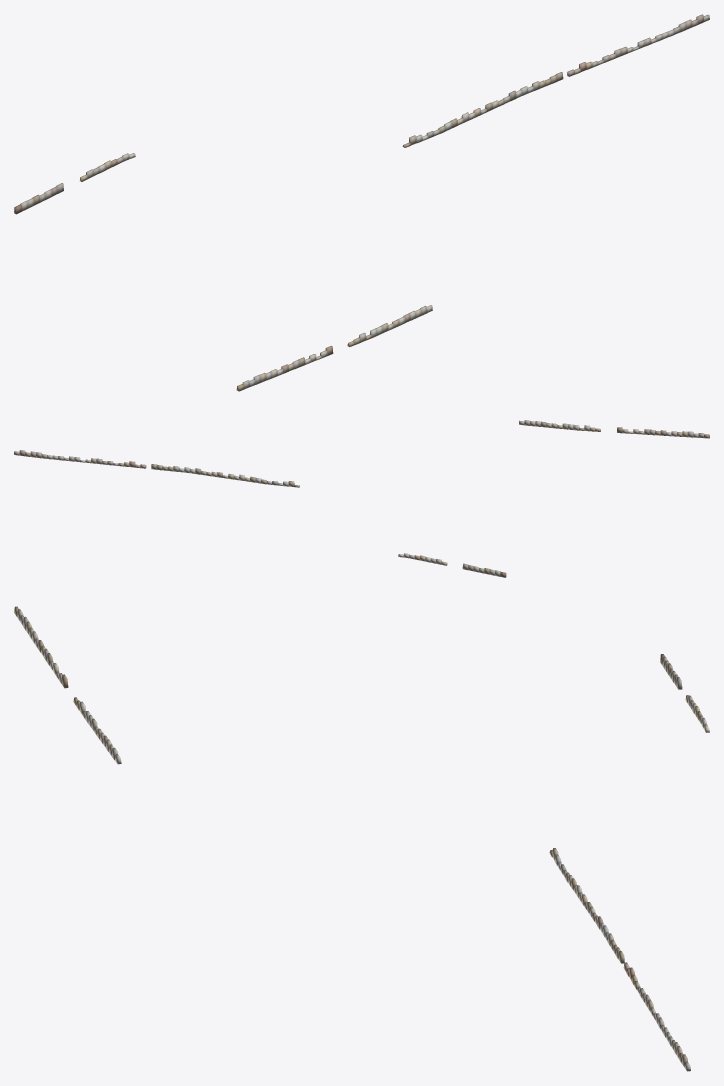
The model's file is farm_29_18_collision.glb.
3 views of the same model, one above another, from view 1: azimuth 30°, elevation 25°; view 2: azimuth 150°, elevation 25°; view 3: azimuth 270°, elevation 25° (orthographic). The views are drawn at different scales.
Parts seen in each view (by area): view 1: geometry_0; view 2: geometry_0; view 3: geometry_0.
Part boxes in pixels (box(x1,y1,x2,y2)): geometry_0: box(14, 14, 709, 391); geometry_0: box(14, 420, 709, 577); geometry_0: box(14, 606, 709, 1071).
Bounding box in the file's own units: 165 × 5.96 × 108.
